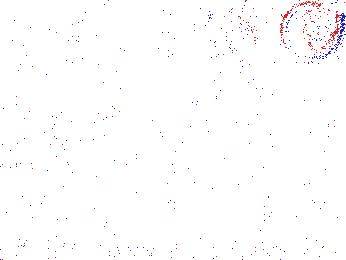moon jellyfish: (196, 52, 282, 124), (69, 82, 141, 157), (2, 34, 98, 76), (280, 1, 342, 64), (210, 9, 257, 81), (1, 1, 89, 30)
